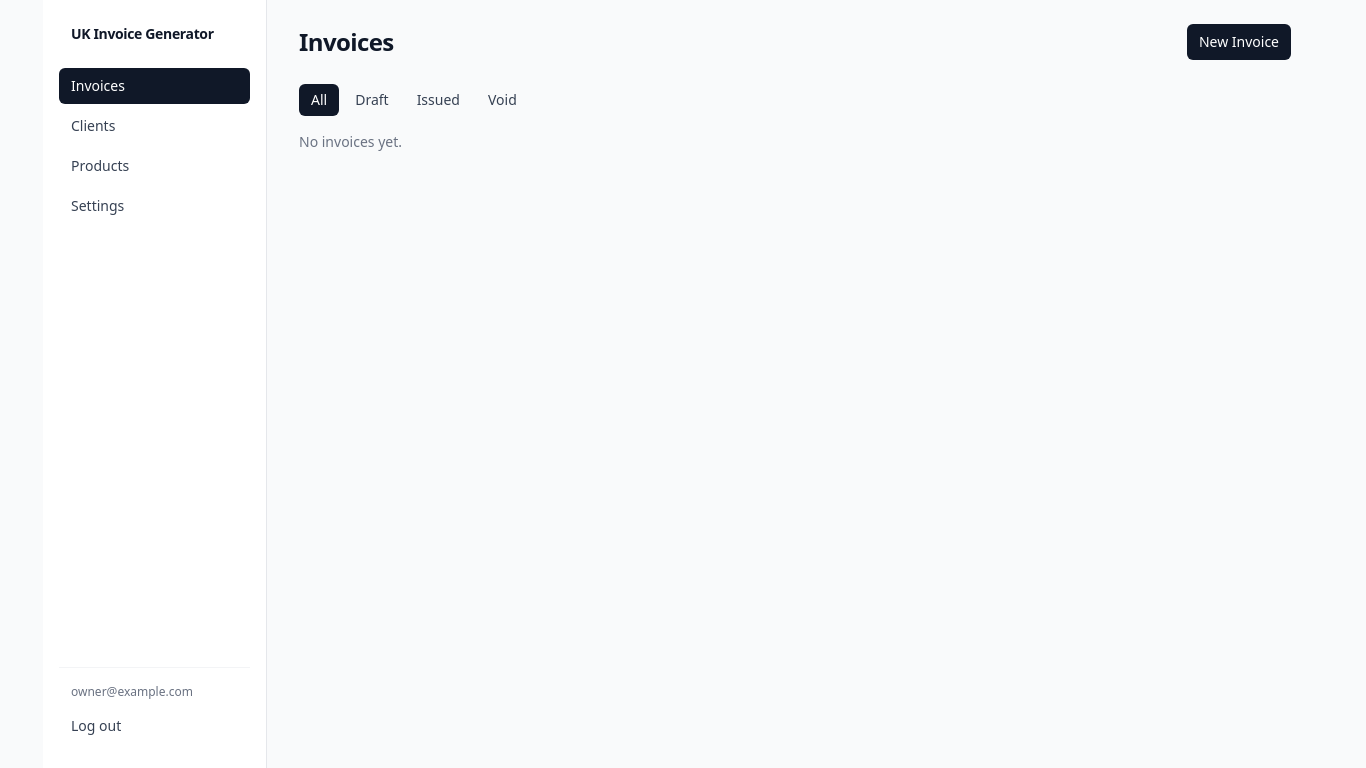
logout › clears auth state and returns to sign-in
What coordinates should you click on to do the following:
click the button "Log out"
I would click on:
 (154, 726)
Its box is [59,708,250,744].
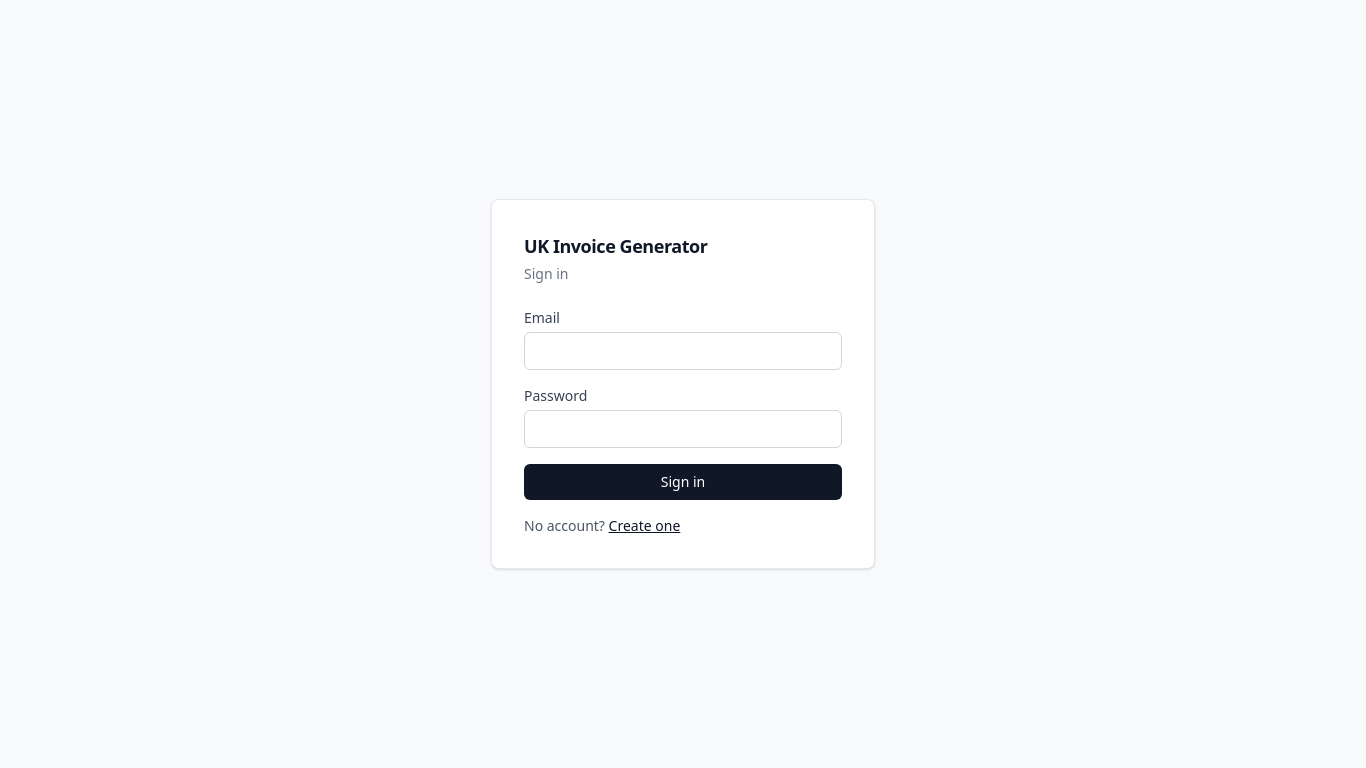
Now the button "Sign in" is shown, box [524,464,842,500]
